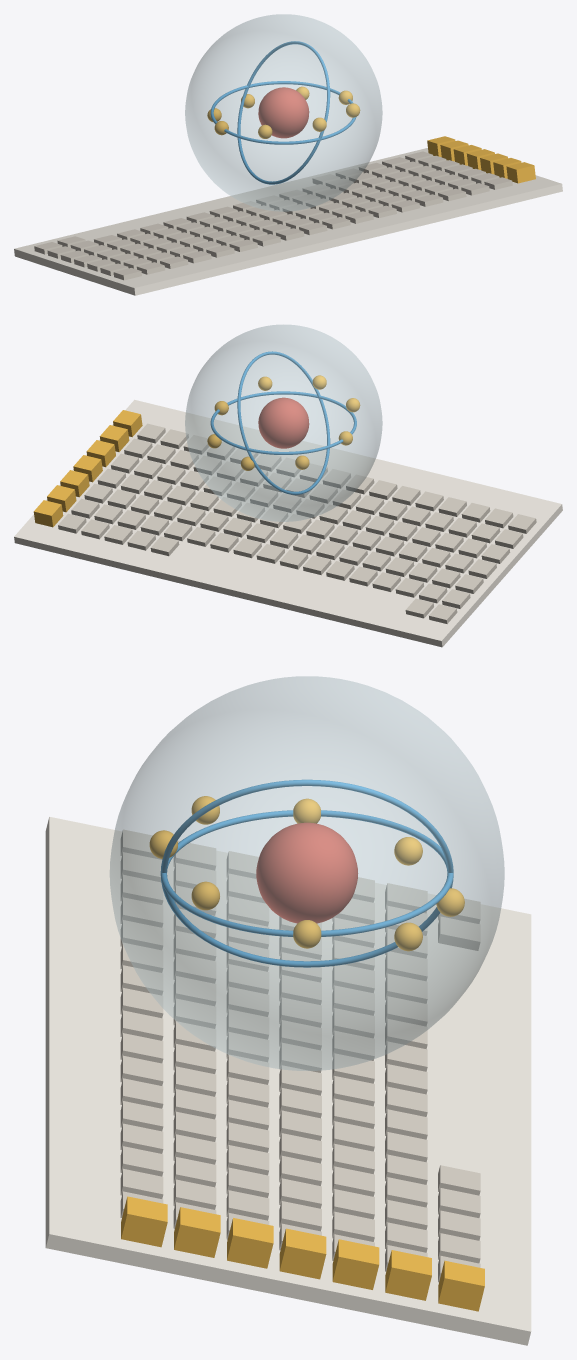
Rendered from chem-periodic-noble-gas.glb.
3 renders of one model, top to bottom at view 1: azimuth 30°, elevation 25°; view 2: azimuth 150°, elevation 25°; view 3: azimuth 270°, elevation 25°, orthographic. The views are drawn at different scales.
Visible parts, largest first — view 1: calm-nonreactive-shield, table-backing, nucleus, shell-y, shell-x, highlight-cell-18-7; view 2: table-backing, calm-nonreactive-shield, nucleus, shell-y, shell-x, highlight-cell-18-1, highlight-cell-18-3, highlight-cell-18-2, highlight-cell-18-4, highlight-cell-18-7, highlight-cell-18-5, highlight-cell-18-6; view 3: calm-nonreactive-shield, table-backing, nucleus, shell-y, shell-x, highlight-cell-18-3, highlight-cell-18-4, highlight-cell-18-1, highlight-cell-18-2, highlight-cell-18-5, highlight-cell-18-6, highlight-cell-18-7 (+83 smaller).
Boxes of the visible parts, <box> form: calm-nonreactive-shield: <box>185,14,382,211</box>; table-backing: <box>14,148,562,295</box>; nucleus: <box>258,87,309,138</box>; shell-y: <box>237,41,330,184</box>; shell-x: <box>210,81,356,144</box>; highlight-cell-18-7: <box>506,162,535,183</box>; table-backing: <box>14,399,562,647</box>; calm-nonreactive-shield: <box>185,324,382,521</box>; nucleus: <box>258,397,309,448</box>; shell-y: <box>237,351,330,494</box>; shell-x: <box>210,391,356,454</box>; highlight-cell-18-1: <box>33,500,63,527</box>; highlight-cell-18-3: <box>60,470,89,497</box>; highlight-cell-18-2: <box>47,485,76,512</box>; highlight-cell-18-4: <box>73,455,102,482</box>; highlight-cell-18-7: <box>113,410,142,437</box>; highlight-cell-18-5: <box>86,440,115,467</box>; highlight-cell-18-6: <box>99,425,129,451</box>; calm-nonreactive-shield: <box>109,676,504,1070</box>; table-backing: <box>45,816,531,1345</box>; nucleus: <box>256,822,358,923</box>; shell-y: <box>160,779,453,967</box>; shell-x: <box>160,810,453,936</box>; highlight-cell-18-3: <box>332,1239,379,1289</box>; highlight-cell-18-4: <box>279,1228,326,1279</box>; highlight-cell-18-1: <box>438,1260,484,1311</box>; highlight-cell-18-2: <box>385,1250,431,1300</box>; highlight-cell-18-5: <box>227,1218,273,1268</box>; highlight-cell-18-6: <box>174,1207,220,1257</box>; highlight-cell-18-7: <box>121,1196,167,1247</box>.
Size of what is drawn, in the model's own units: 3.1 by 1.53 by 1.52.
